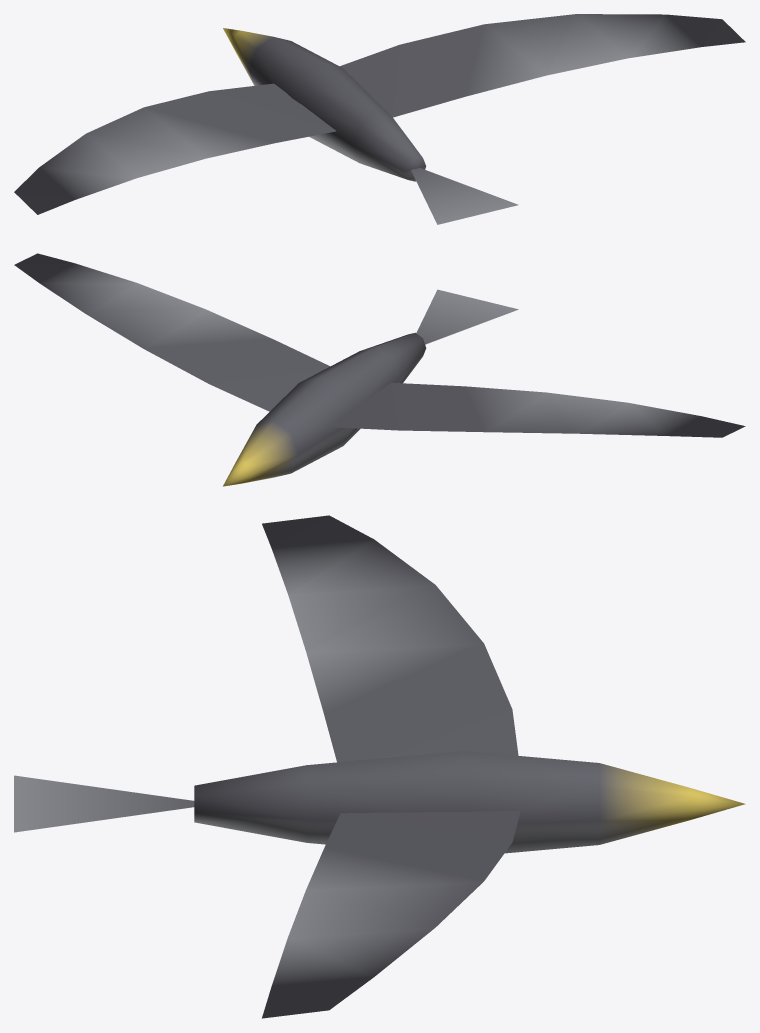
File: bird.glb
3 views of the same model, one above another, from view 1: azimuth 30°, elevation 25°; view 2: azimuth 150°, elevation 25°; view 3: azimuth 270°, elevation 25° (orthographic). The views are drawn at different scales.
Parts seen in each view (by area): view 1: Bird; view 2: Bird; view 3: Bird.
Boxes of the visible parts, box(x1,y1,x2,y2) form: Bird: box(14, 14, 745, 224); Bird: box(14, 253, 745, 486); Bird: box(14, 515, 745, 1018).
Bounding box in the file's own units: 1.04 × 0.104 × 0.65.
